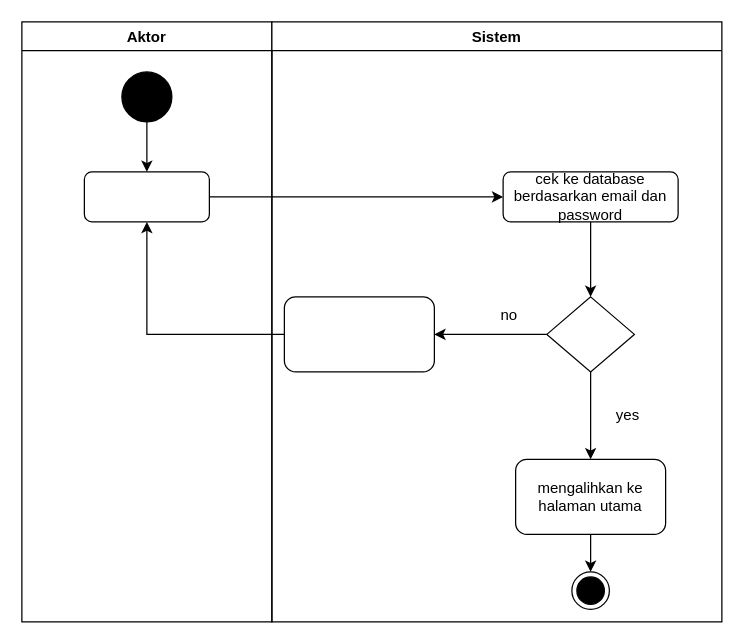
This 744x644 diagram has some shape labels left out. The shapes that lost their labels are listed below. From the top down, each one's centre as x and y in pixels, then its label:
the point at 146,196: memasukkan email dan password
the point at 358,334: menampilkan pesan bahwa email dan password salah
